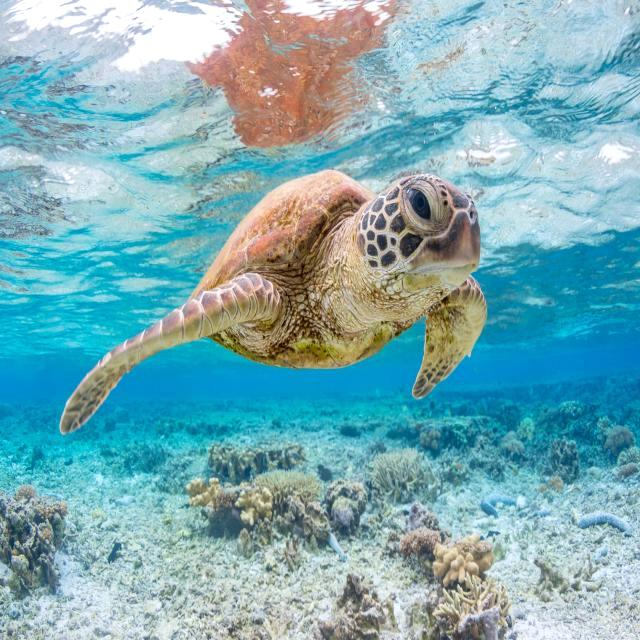Sea turtle: (58, 169, 490, 420)
